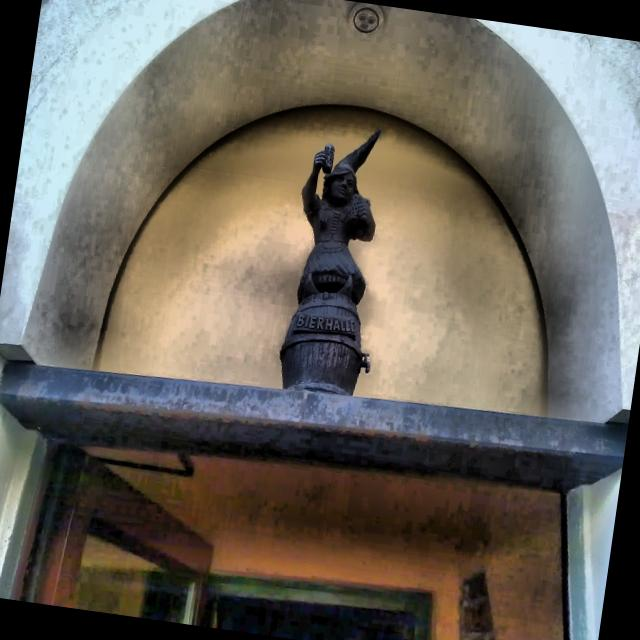Bawarka: (280, 130, 380, 395)
